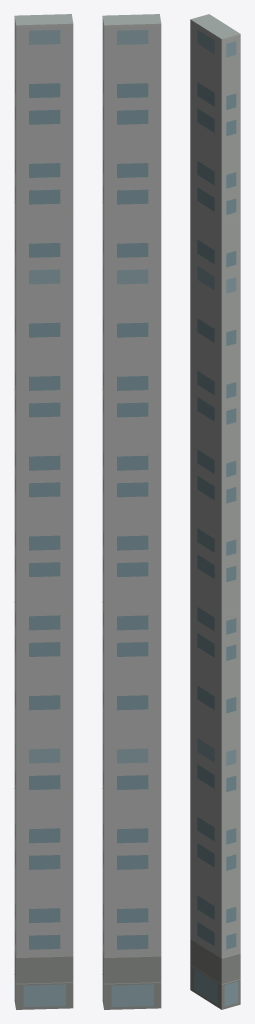
The model's file is survey-upis-32538354.glb.
3 views of the same model, side by side, from view 1: azimuth 30°, elevation 25°; view 2: azimuth 210°, elevation 25°; view 3: azimuth 330°, elevation 25° (orthographic).
Visible parts, largest first — view 1: survey-upis-32538354.tmp; view 2: survey-upis-32538354.tmp; view 3: survey-upis-32538354.tmp.
Boxes of the visible parts, <box> form: survey-upis-32538354.tmp: <box>14,14,73,1009</box>; survey-upis-32538354.tmp: <box>102,14,161,1009</box>; survey-upis-32538354.tmp: <box>190,14,240,1009</box>.
Bounding box in the file's own units: 6.42 × 113 × 4.8.
